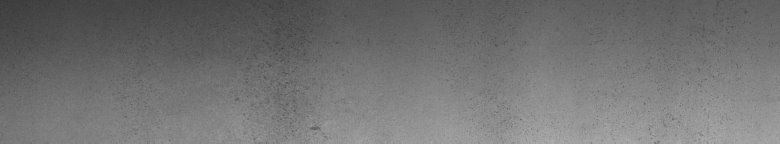ib: (235, 37, 324, 136)
